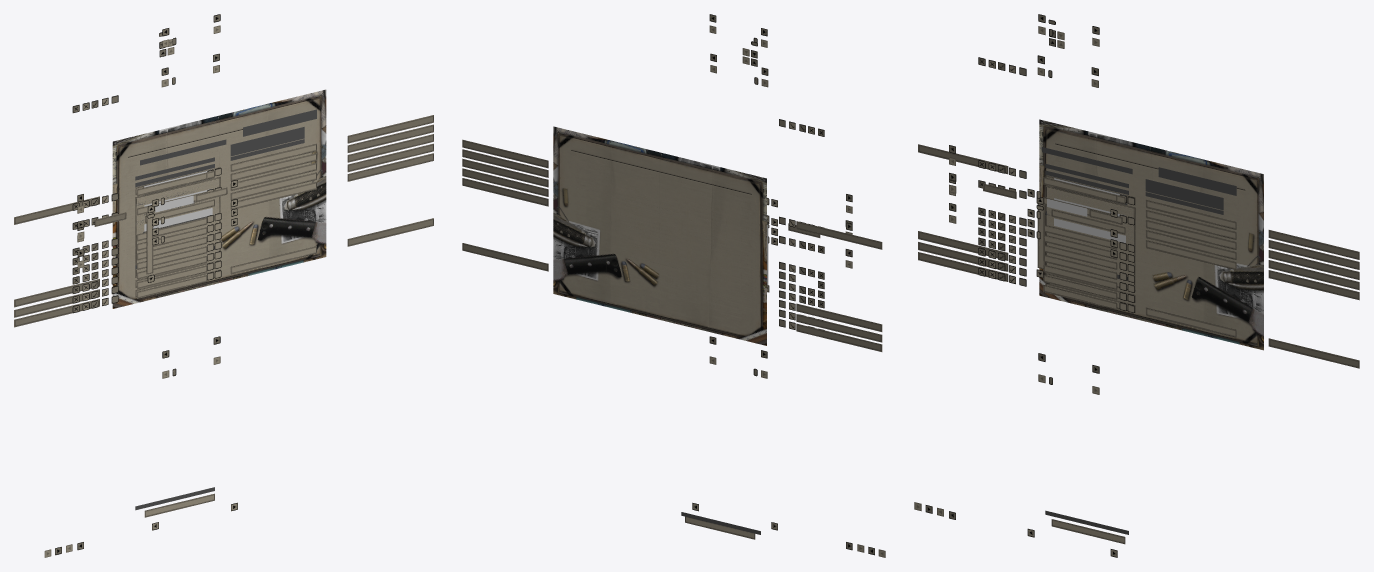
File: HUD_Settings.fbx
The picture shows the model from 3 angles, left to right: view 1: azimuth 30°, elevation 25°; view 2: azimuth 150°, elevation 25°; view 3: azimuth 330°, elevation 25°; orthographic projection. The views are drawn at different scales.
Visible parts, largest first — view 1: options, table01, text_screen, normal04, actived02, actived03, actived01, actived00, normal00, actived04, actived21, normal21 (+11 smaller); view 2: options, actived02, actived04, actived21, actived01, actived00, actived15, actived13, actived03, actived12, actived10; view 3: options, table01, text_screen, actived04, actived21, normal04, actived02, actived03, normal03, actived01, normal02, normal21 (+18 smaller).
Part boxes in pixels (x1,y1,x2,y2): options: (112,89,326,308); table01: (135,176,220,277); text_screen: (243,109,316,136); normal04: (230,246,316,274); actived02: (347,134,433,162); actived03: (347,153,433,181); actived01: (347,124,433,152); actived00: (347,115,433,143); normal00: (230,143,316,171); actived04: (347,218,433,246); actived21: (347,143,433,172); normal21: (230,172,316,200); options: (553,126,766,345); actived02: (462,158,548,187); actived04: (462,243,548,271); actived21: (462,168,548,196); actived01: (462,149,548,177); actived00: (462,139,548,168); actived15: (796,303,882,331); actived13: (796,221,882,249); actived03: (462,178,548,206); actived12: (796,323,882,351); actived10: (796,314,882,342); options: (1039,119,1263,350); table01: (1045,185,1135,292); text_screen: (1158,167,1236,195); actived04: (1268,338,1359,368); actived21: (1268,260,1359,290); normal04: (1145,307,1236,337); actived02: (1268,250,1359,279); actived03: (1268,270,1359,300); normal03: (1145,240,1236,270); actived01: (1268,240,1359,269); normal02: (1145,220,1236,249); normal21: (1145,230,1236,259).
Size of the model in its own units: 197 by 225 by 20.47.
